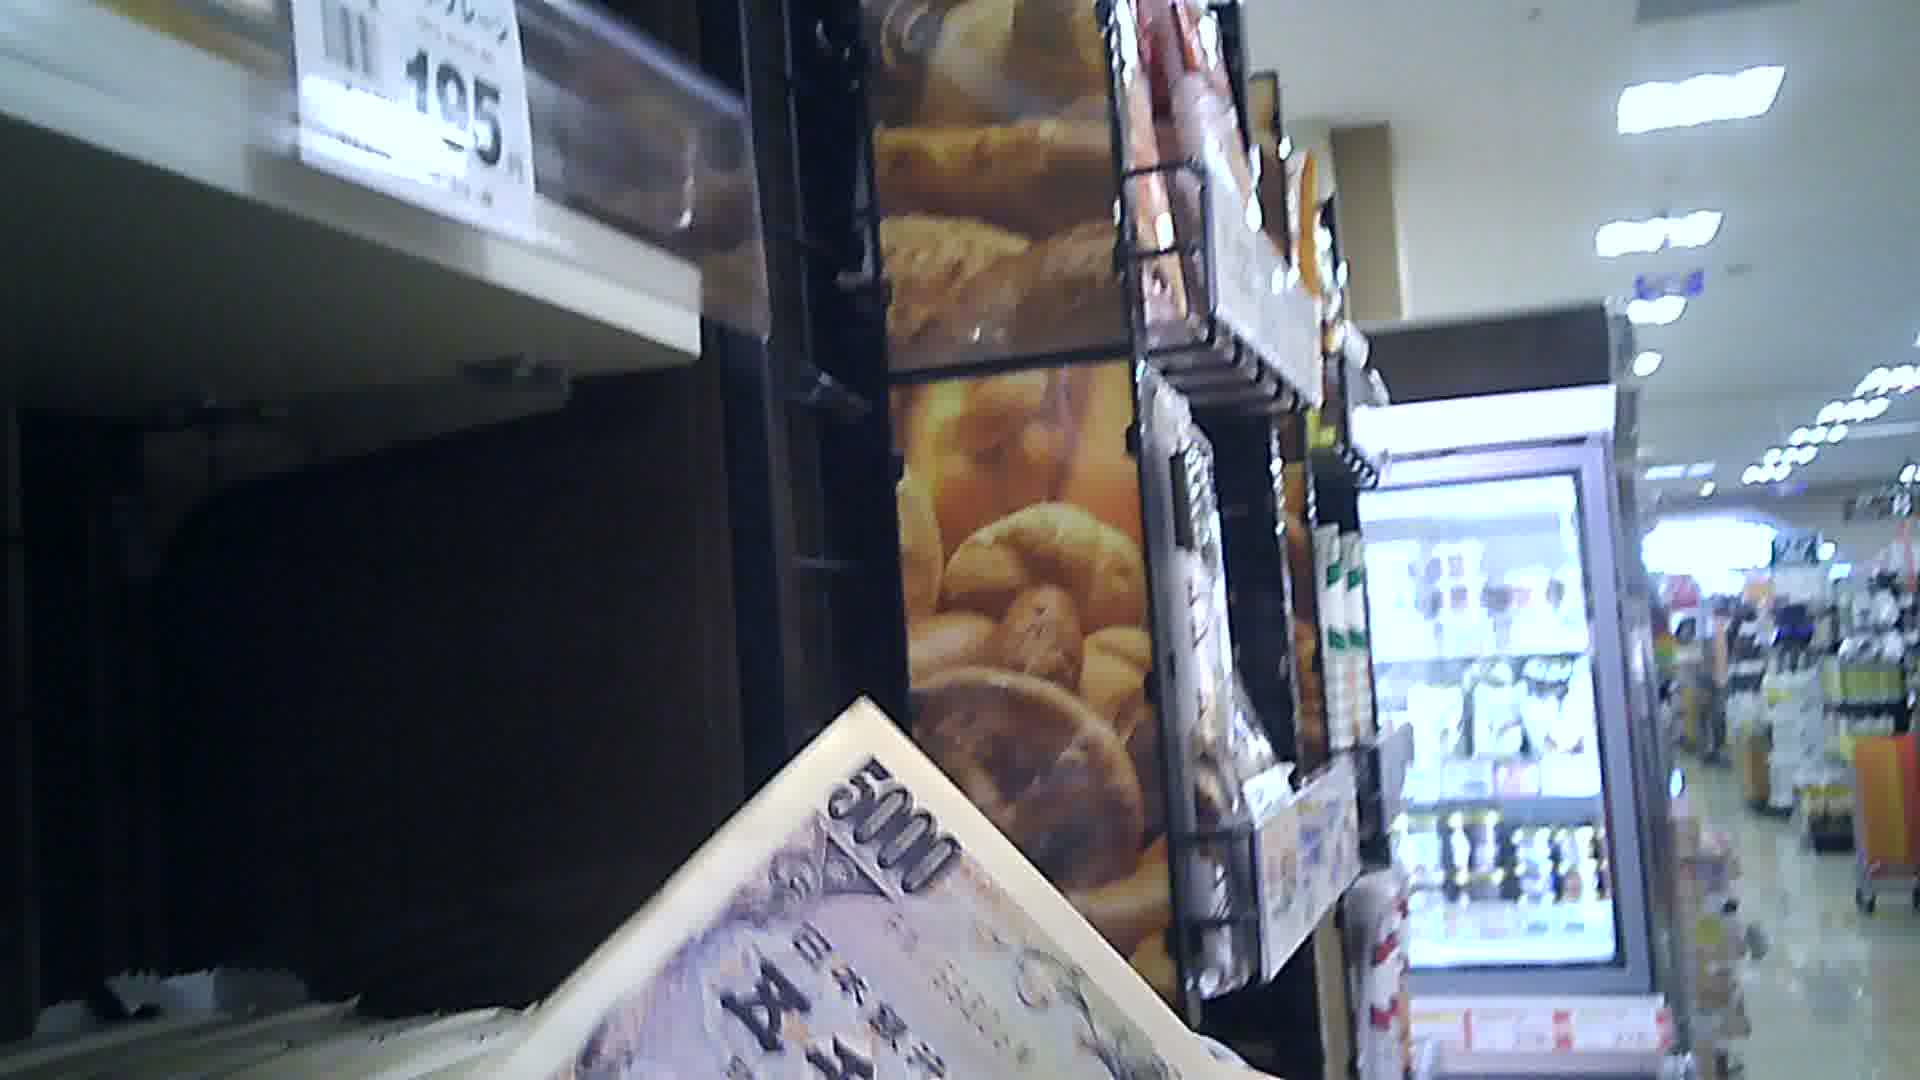5,000 Yen: (476, 676, 1244, 1062)
